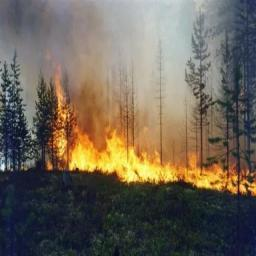Low smoke: (8, 6, 243, 127)
Medium fire: (41, 97, 256, 200)
